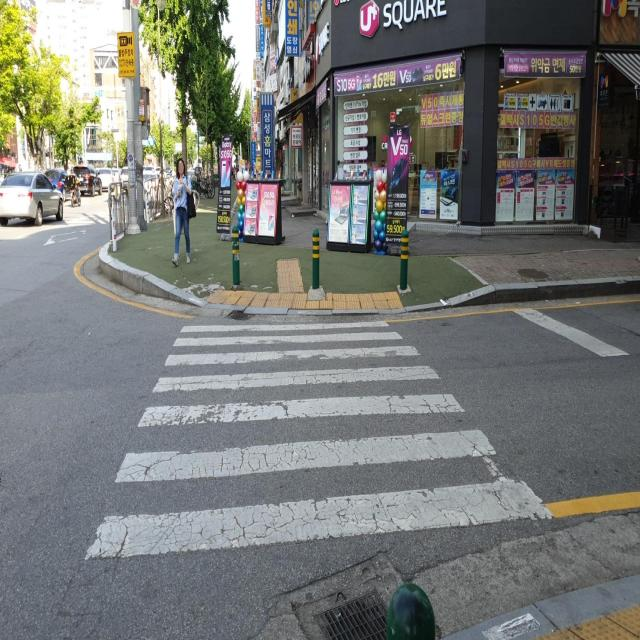횡단보도: (80, 316, 559, 566)
